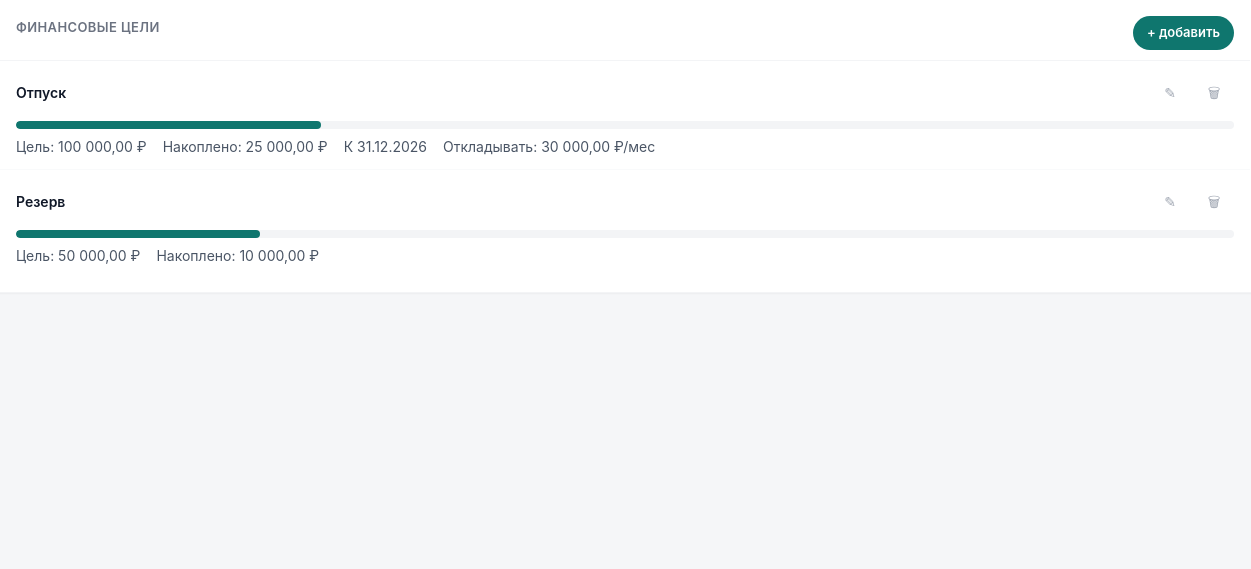
it: GoalsComponent › открывает_редактирование_соответствующей_цели_по_клику_на_кнопку_с_иконкой
The width and height of the screenshot is (1251, 569).
Click the button named "Редактировать цель" at coordinates (1170, 202), box [1150,182,1190,222]
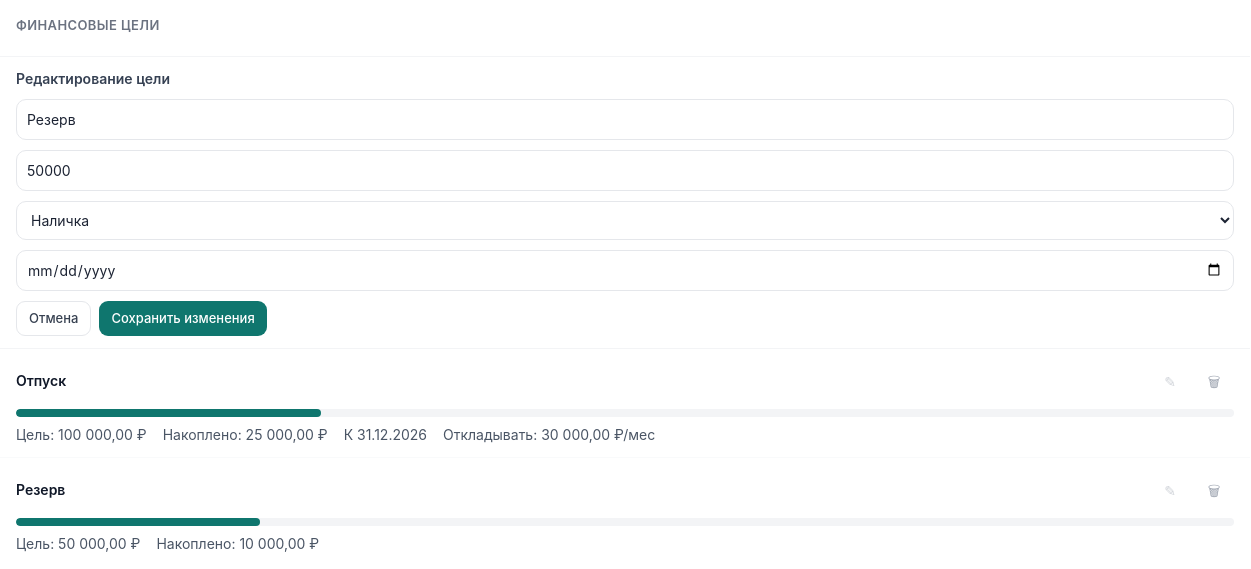
Result: the field named "Название цели" holds "Резерв" at [16,98,1234,140]
